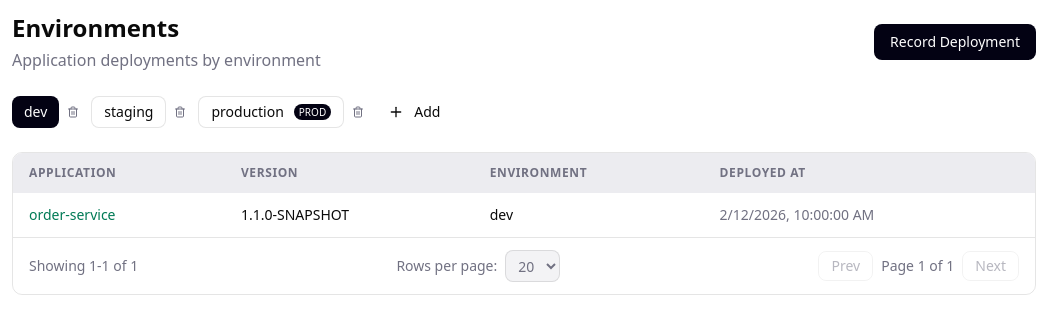
Test: EnvironmentsPage › should switch to production environment and show production deployments
Click the button "production PROD" at (271, 112), box x1=198 y1=96 x2=344 y2=128
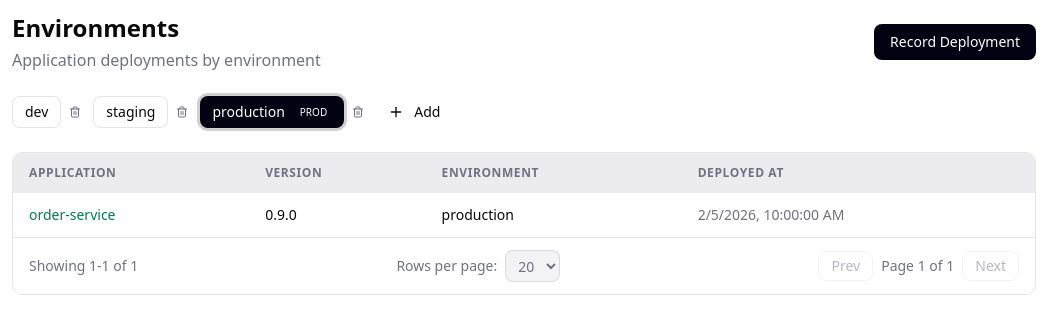
Result: the text "0.9.0" is shown at x1=249 y1=193 x2=426 y2=237
